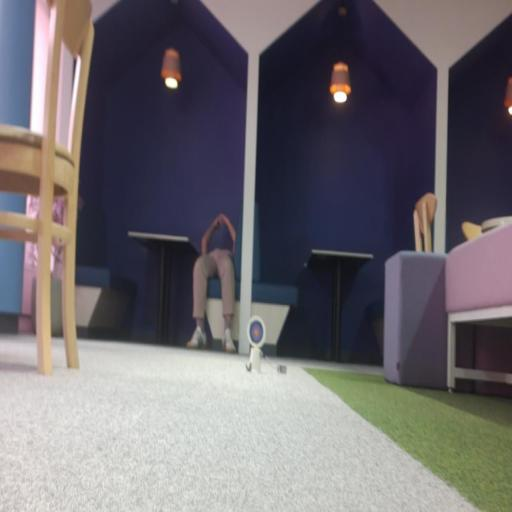target: (247, 315, 266, 348)
